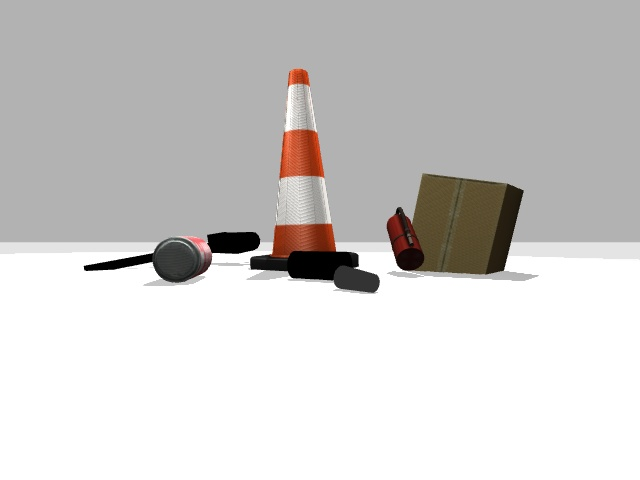boite_lettres: (84, 253, 152, 271), (207, 232, 259, 253)
bouteille_verre: (287, 251, 357, 279)
canette: (84, 232, 259, 282)
carton: (411, 174, 522, 273)
cone_chantier: (250, 69, 335, 269)
extincteur: (387, 207, 423, 270)
gobelet: (334, 266, 379, 292)
